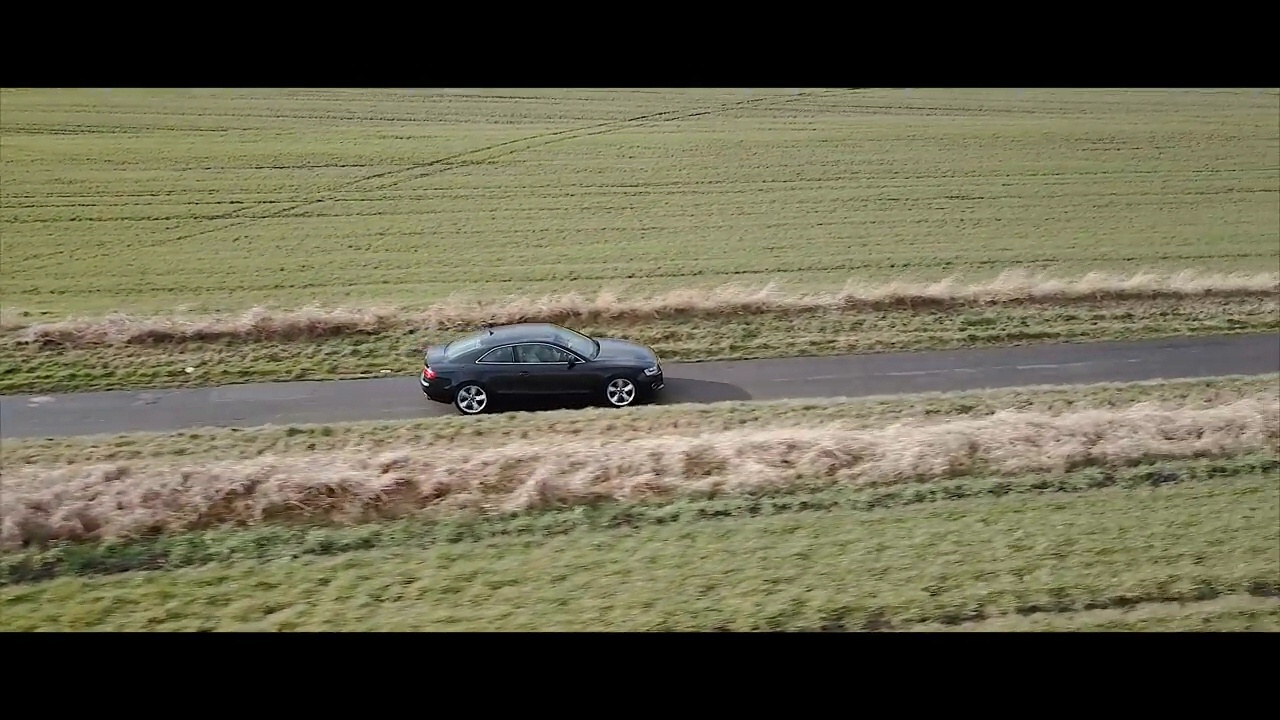araba: (412, 317, 664, 415)
